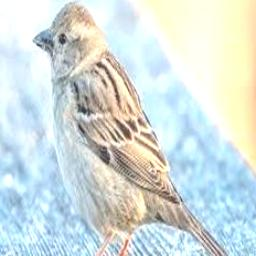Sparrow: (32, 0, 235, 256)
